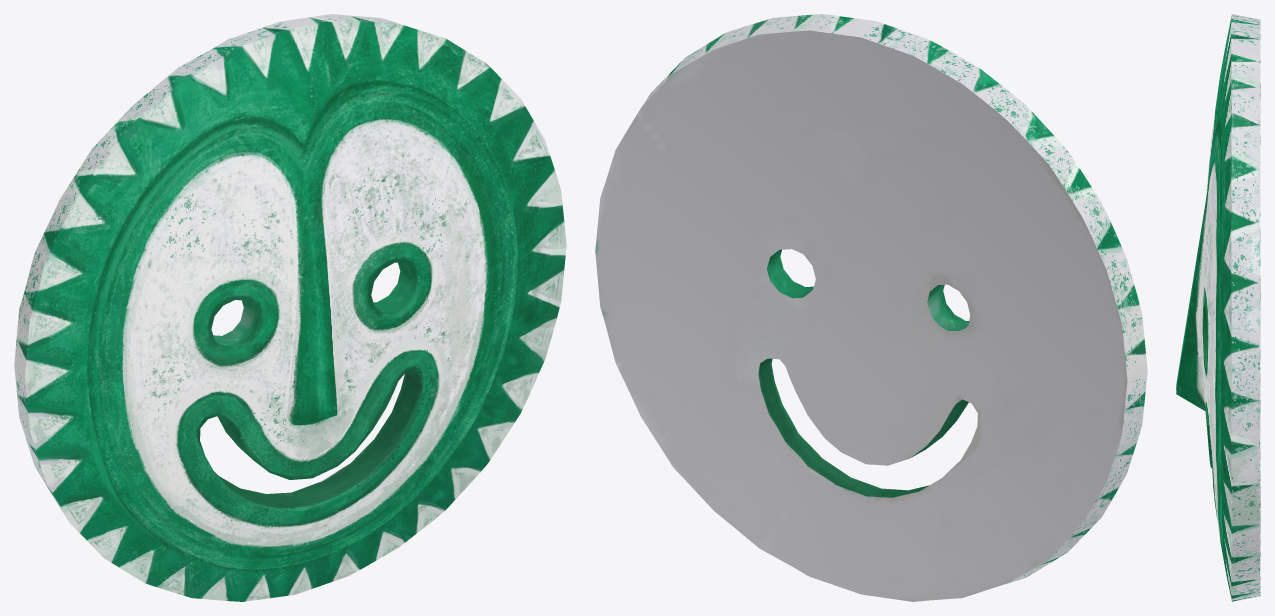
The model's file is TonyaAvatar.glb.
3 views of the same model, side by side, from view 1: azimuth 30°, elevation 25°; view 2: azimuth 150°, elevation 25°; view 3: azimuth 270°, elevation 25° (orthographic). The views are drawn at different scales.
Visible parts, largest first — view 1: Final.002; view 2: Final.002; view 3: Final.002.
Part boxes in pixels (x1,y1,x2,y2): Final.002: (14,14,566,601); Final.002: (595,14,1147,601); Final.002: (1176,14,1260,601).
Bounding box in the file's own units: 1 × 1 × 0.144.
Materials: 1 (1 with a texture image).
